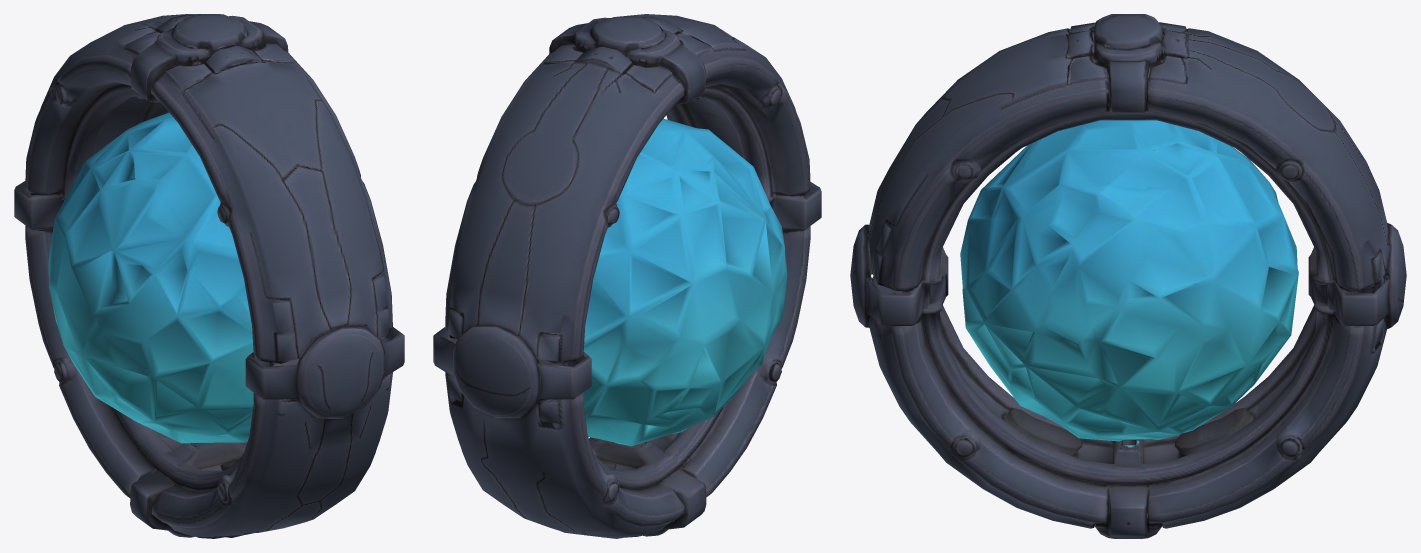
File: shield.glb
The picture shows the model from 3 angles, left to right: view 1: azimuth 30°, elevation 25°; view 2: azimuth 150°, elevation 25°; view 3: azimuth 270°, elevation 25°; orthographic projection.
Parts seen in each view (by area): view 1: tripo_node_4ffa4176-0648-4ab5-ad6a-1a37ee8af19e; view 2: tripo_node_4ffa4176-0648-4ab5-ad6a-1a37ee8af19e; view 3: tripo_node_4ffa4176-0648-4ab5-ad6a-1a37ee8af19e.
Boxes of the visible parts, <box> form: tripo_node_4ffa4176-0648-4ab5-ad6a-1a37ee8af19e: <box>14,14,404,538</box>; tripo_node_4ffa4176-0648-4ab5-ad6a-1a37ee8af19e: <box>433,14,821,538</box>; tripo_node_4ffa4176-0648-4ab5-ad6a-1a37ee8af19e: <box>850,14,1406,538</box>.
Bounding box in the file's own units: 0.5519 × 0.998 × 1.
Materials: 1 (1 with a texture image).
